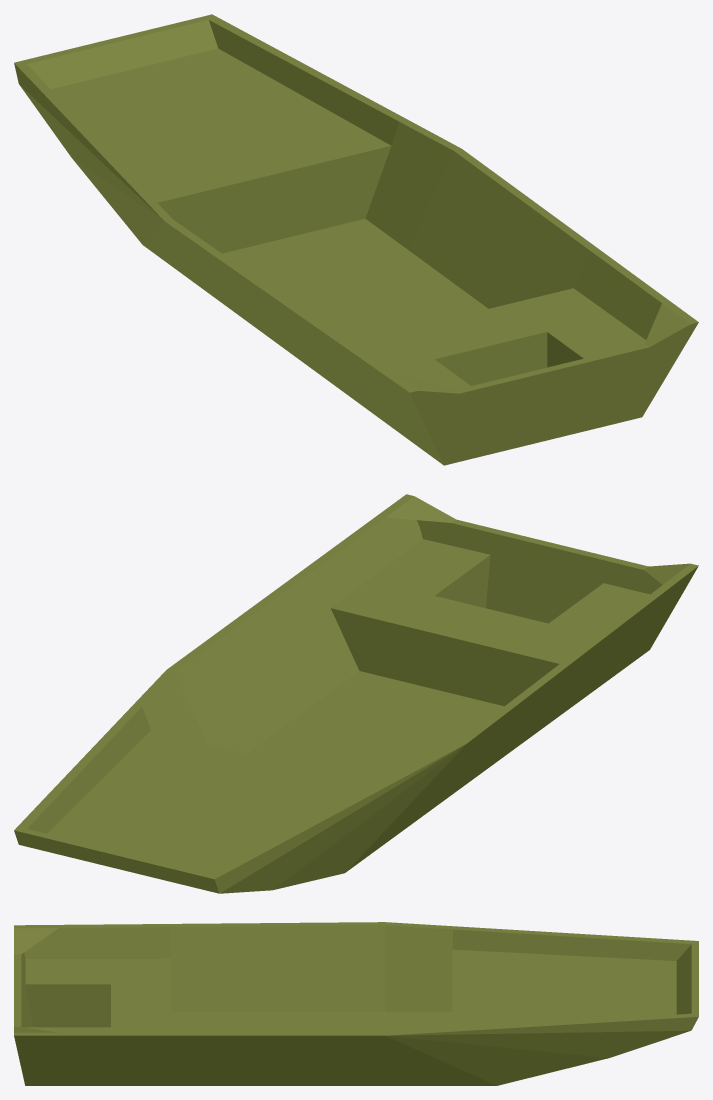
File: boat.glb
3 renders of one model, top to bottom at view 1: azimuth 30°, elevation 25°; view 2: azimuth 150°, elevation 25°; view 3: azimuth 270°, elevation 25°, orthographic. The views are drawn at different scales.
Parts seen in each view (by area): view 1: Cube; view 2: Cube; view 3: Cube.
Boxes of the visible parts, box(x1,y1,x2,y2) form: Cube: box(14, 14, 698, 465); Cube: box(14, 494, 698, 893); Cube: box(14, 922, 698, 1085).
Size of the model in its own units: 1.83 by 0.5183 by 4.66.
